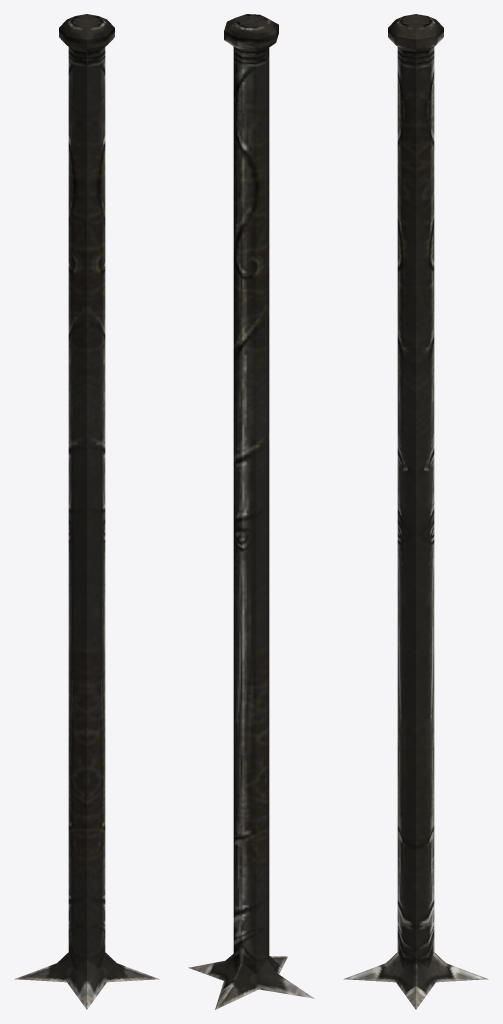
Rendered from Desstaff_grip_default.FBX.
3 views of the same model, side by side, from view 1: azimuth 90°, elevation 25°; view 2: azimuth 150°, elevation 25°; view 3: azimuth 270°, elevation 25° (orthographic).
Visible parts, largest first — view 1: Desstaff_grip_default; view 2: Desstaff_grip_default; view 3: Desstaff_grip_default.
Part boxes in pixels (x1,y1,x2,y2): Desstaff_grip_default: (14,14,159,1009); Desstaff_grip_default: (188,14,314,1009); Desstaff_grip_default: (343,14,488,1009).
Size of the model in its own units: 19.64 by 143 by 19.61.
1 material, 1 textured.
